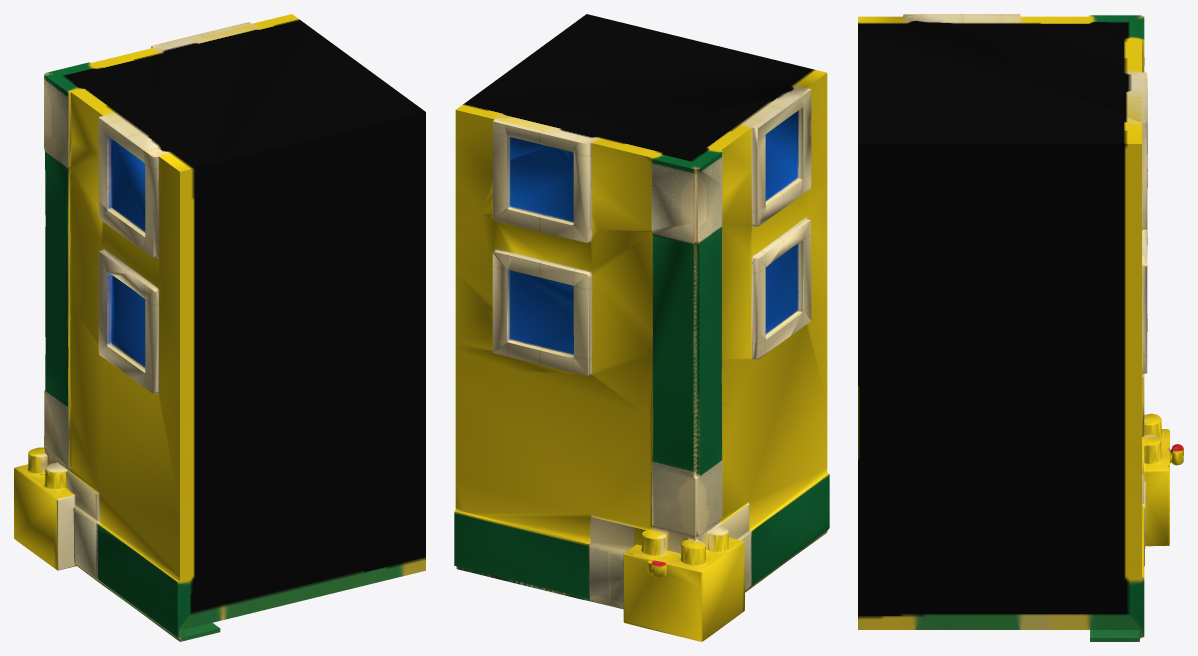
File: 3-ground-floor-back-left.fbx
3 renders of one model, left to right at view 1: azimuth 30°, elevation 25°; view 2: azimuth 150°, elevation 25°; view 3: azimuth 270°, elevation 25°, orthographic. The views are drawn at different scales.
Visible parts, largest first — view 1: ground-floor-back-left; view 2: ground-floor-back-left; view 3: ground-floor-back-left.
Boxes of the visible parts, bbox=[...] form: ground-floor-back-left: bbox=[14, 14, 425, 641]; ground-floor-back-left: bbox=[454, 14, 829, 641]; ground-floor-back-left: bbox=[858, 14, 1183, 641].
Bounding box in the file's own units: 5068 × 8569 × 5079.
1 material, 1 textured.
